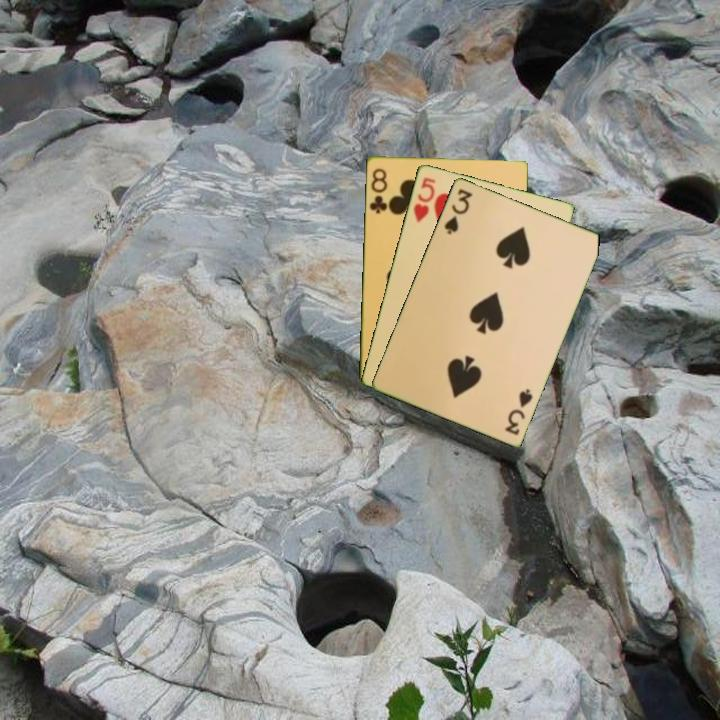3s: (501, 384, 535, 438), (441, 185, 475, 237)
5h: (410, 173, 438, 225)
8c: (366, 164, 390, 216)
